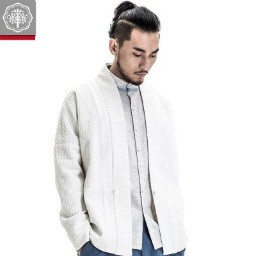face: (110, 1, 160, 87)
